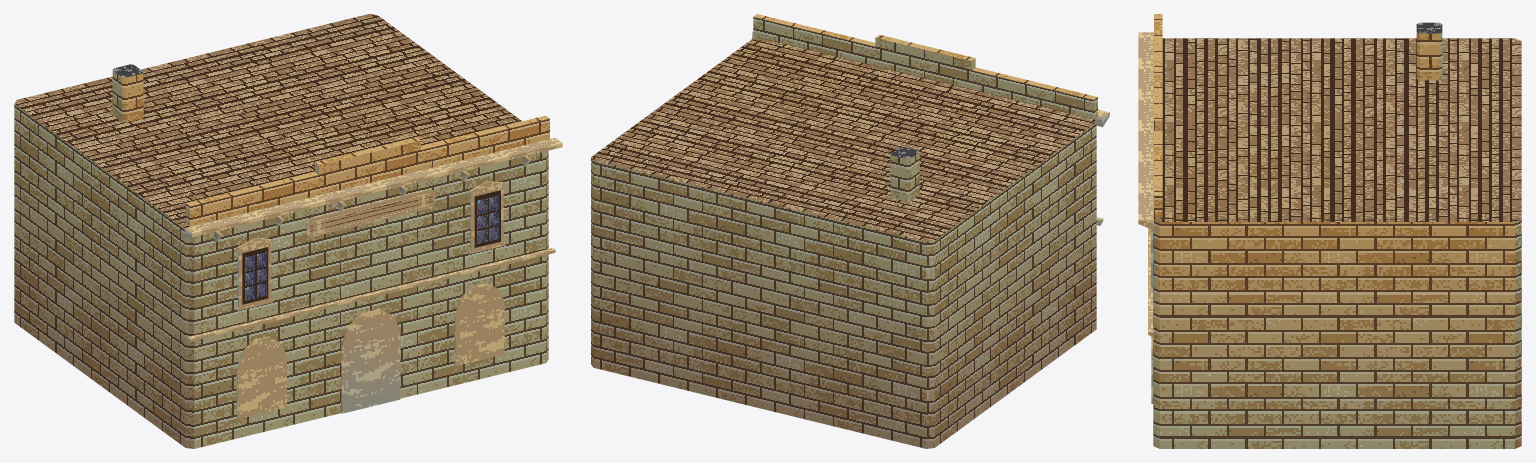
Rendered from wtown.bank__wide.glb.
3 renders of one model, left to right at view 1: azimuth 30°, elevation 25°; view 2: azimuth 150°, elevation 25°; view 3: azimuth 270°, elevation 25°, orthographic. The views are drawn at different scales.
Visible parts, largest first — view 1: kit_body, kit_trim, kit_windows, kit_card_panes, kit_chimney; view 2: kit_body, kit_trim, kit_chimney; view 3: kit_body, kit_trim, kit_chimney, kit_windows.
Part boxes in pixels (x1,y1,x2,y2): kit_body: (14,14,548,448); kit_trim: (184,115,562,413); kit_windows: (236,181,505,419); kit_card_panes: (242,190,500,304); kit_chimney: (112,64,143,122); kit_body: (591,37,1096,448); kit_trim: (752,14,1109,225); kit_chimney: (890,146,919,201); kit_body: (1153,38,1521,448); kit_trim: (1138,14,1162,337); kit_chimney: (1416,22,1442,80); kit_windows: (1151,229,1153,403).
Size of the model in its own units: 12.04 by 8.2 by 10.4.
Materials: 7 (7 with a texture image).
